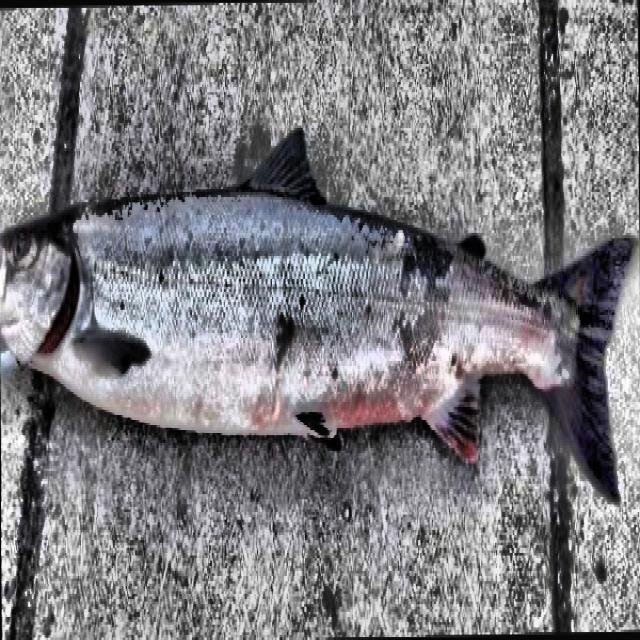mild_red: (38, 195, 570, 433)
wound: (36, 261, 78, 353)
